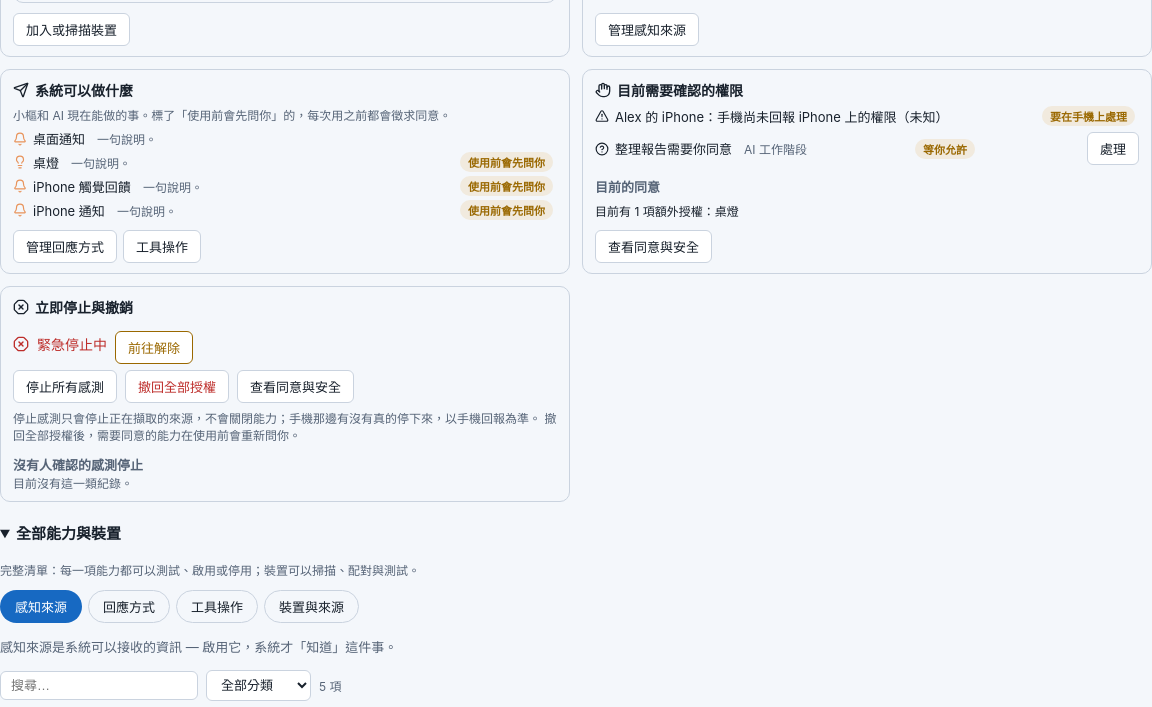
Test: 連接與權限：第一層五區（裝置優先） › 緊急停止中：固定安全文字＋前往解除，不被角色文案取代
The width and height of the screenshot is (1152, 707).
(page scrolled)
Expected: the text "緊急停止中 前往解除" is shown, x1=13 y1=331 x2=193 y2=364
Click the button "前往解除" at (154, 348), box x1=115 y1=331 x2=193 y2=364
(page scrolled)
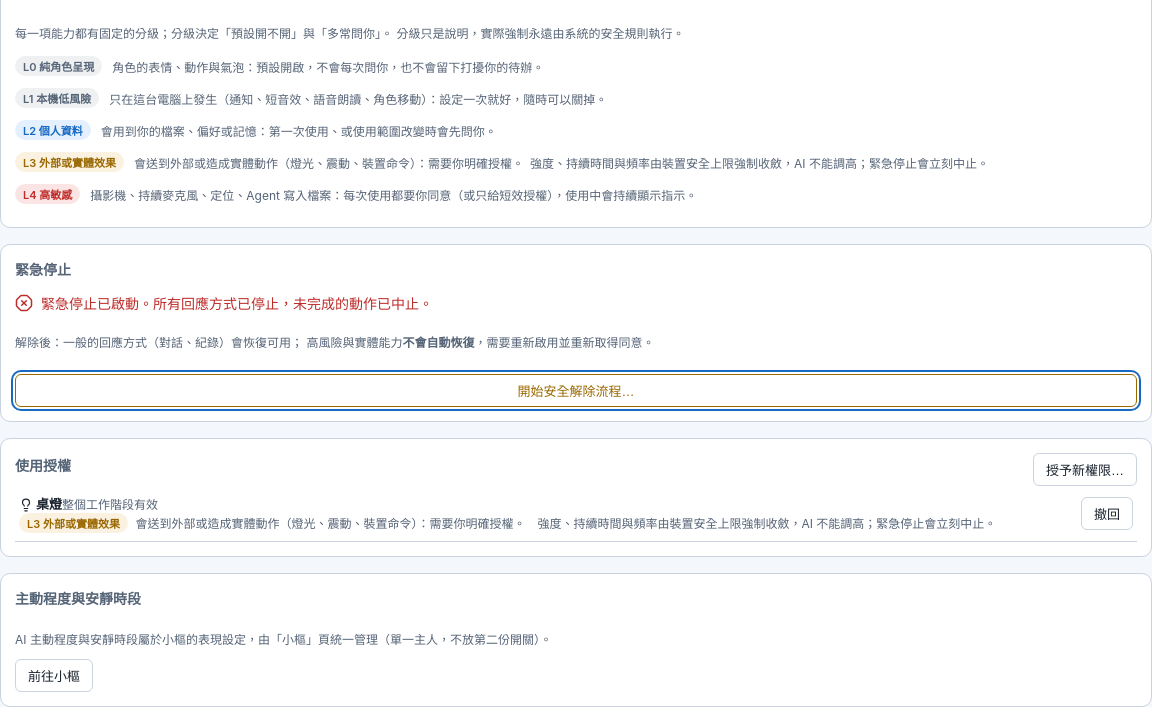
Expected: the button "開始安全解除流程…" is shown, x1=15 y1=374 x2=1137 y2=407
Expected: the text "緊急停止已啟動。所有回應方式已停止，未完成的動作已中止。" is shown, x1=15 y1=294 x2=433 y2=312
